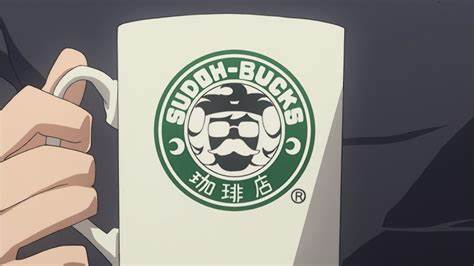starbucks Fake: (143, 44, 322, 219)
